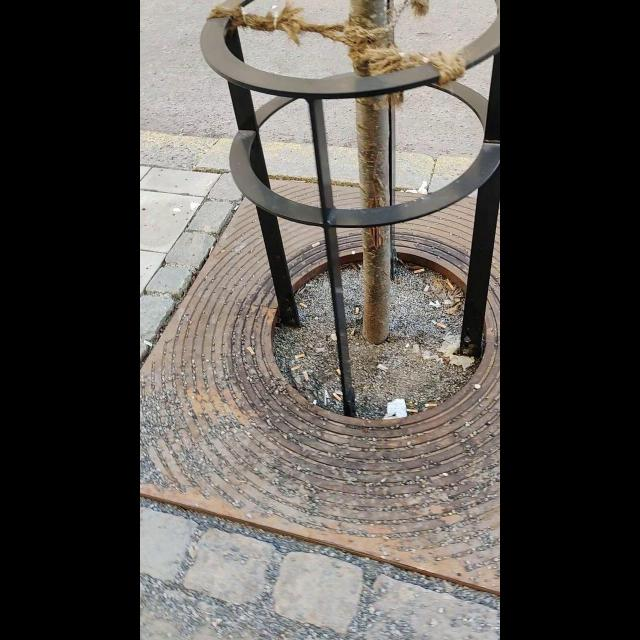cigarette: (334, 393, 342, 403), (311, 240, 321, 248), (423, 403, 438, 408), (378, 363, 387, 371), (303, 370, 310, 380), (208, 246, 215, 256), (424, 402, 437, 407), (414, 268, 424, 274), (438, 322, 448, 328), (406, 408, 417, 413), (295, 354, 305, 359), (248, 347, 255, 354), (143, 340, 151, 346), (291, 366, 299, 371), (337, 366, 341, 376), (448, 280, 453, 288), (354, 307, 358, 315), (301, 303, 308, 307)
